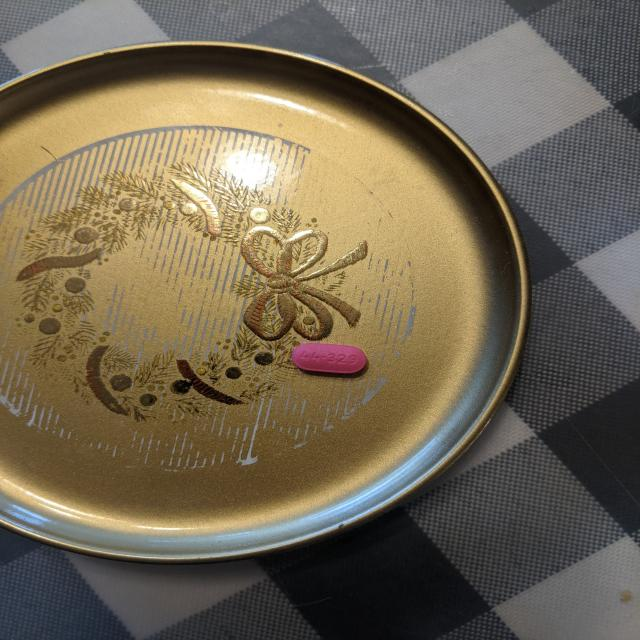non-organic waste: (291, 342, 368, 375)
